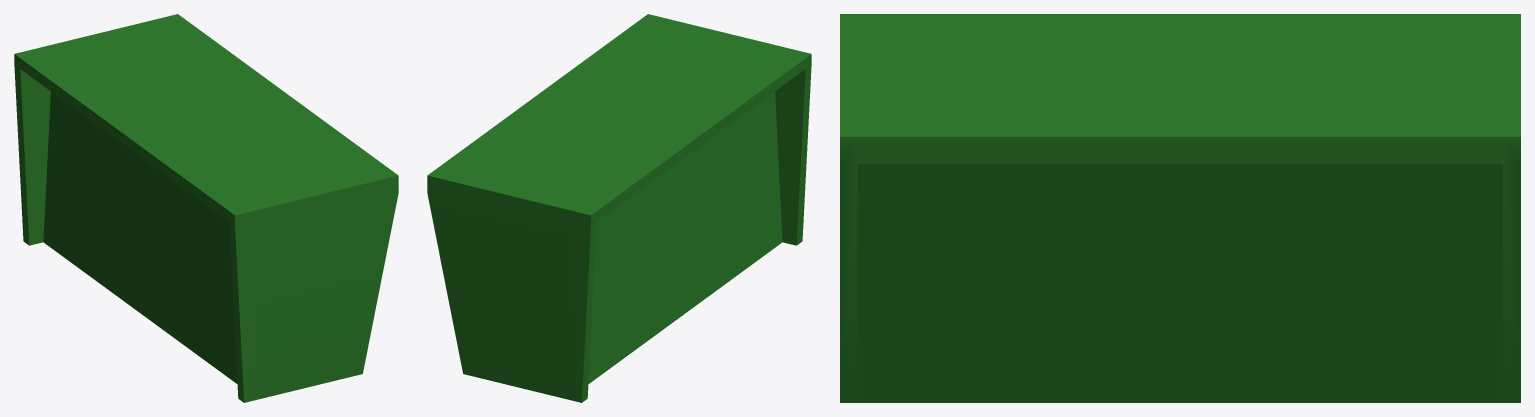
File: Code_H_Machine_01.fbx
The picture shows the model from 3 angles, left to right: view 1: azimuth 30°, elevation 25°; view 2: azimuth 150°, elevation 25°; view 3: azimuth 270°, elevation 25°; orthographic projection. The views are drawn at different scales.
Visible parts, largest first — view 1: Code_H_Machine_01; view 2: Code_H_Machine_01; view 3: Code_H_Machine_01.
Part boxes in pixels (x1,y1,x2,y2): Code_H_Machine_01: (14,14,398,402); Code_H_Machine_01: (427,14,811,402); Code_H_Machine_01: (840,14,1520,402).
Size of the model in its own units: 17.54 by 19.45 by 40.99.
